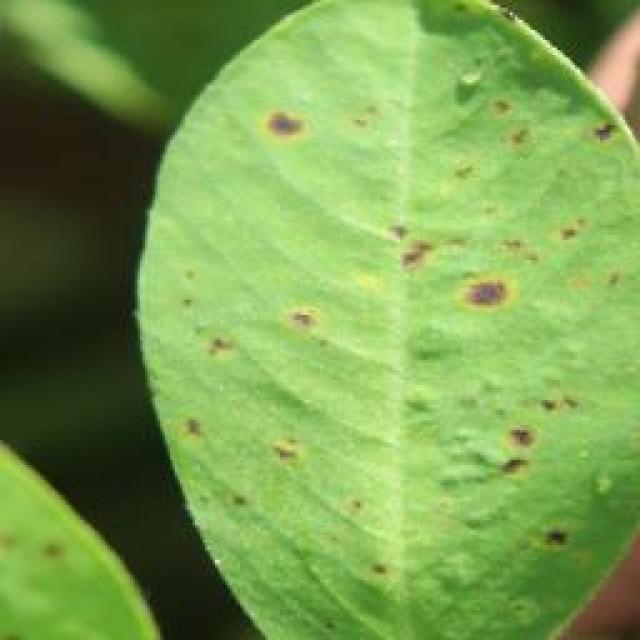Sigatoka: (471, 384, 596, 572), (374, 206, 515, 339), (482, 85, 618, 172), (249, 91, 328, 173), (274, 298, 354, 363)
